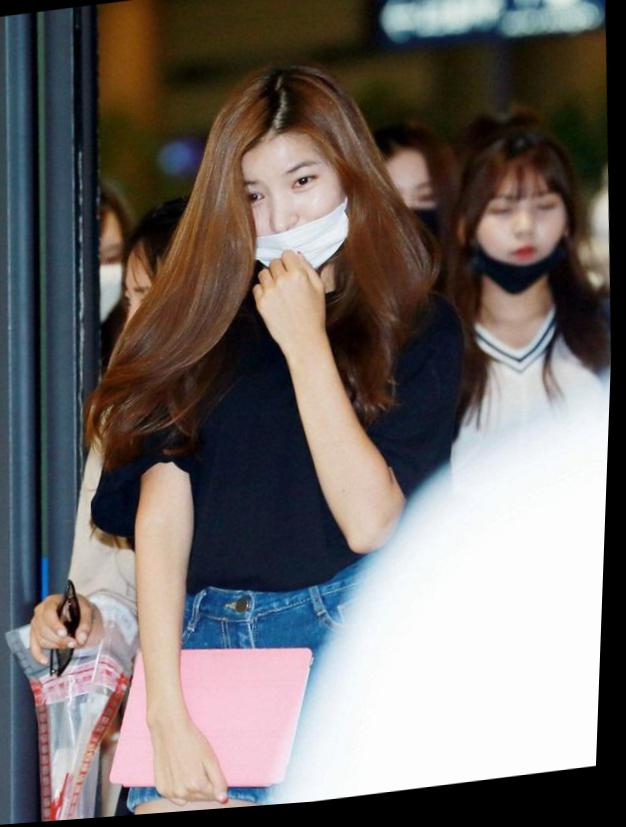NONE: (473, 186, 568, 299)
WRONG: (232, 154, 355, 279)
